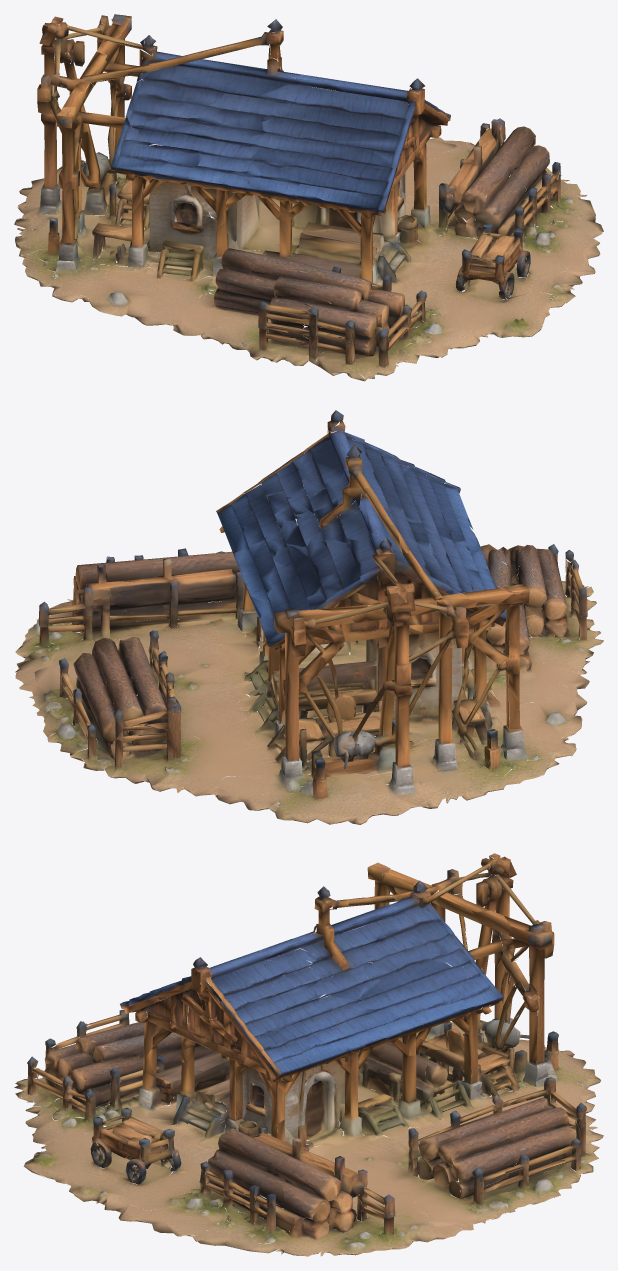
The model's file is aserradero-v.glb.
3 renders of one model, top to bottom at view 1: azimuth 30°, elevation 25°; view 2: azimuth 150°, elevation 25°; view 3: azimuth 270°, elevation 25°, orthographic. The views are drawn at different scales.
Visible parts, largest first — view 1: tripo_node_843c9067-e088-4989-b559-e730d83b4ff4; view 2: tripo_node_843c9067-e088-4989-b559-e730d83b4ff4; view 3: tripo_node_843c9067-e088-4989-b559-e730d83b4ff4.
Part boxes in pixels (x1=…): tripo_node_843c9067-e088-4989-b559-e730d83b4ff4: x1=14, y1=14, x2=603, y2=381; tripo_node_843c9067-e088-4989-b559-e730d83b4ff4: x1=15, y1=410, x2=603, y2=824; tripo_node_843c9067-e088-4989-b559-e730d83b4ff4: x1=14, y1=853, x2=603, y2=1256.
Size of the model in its own units: 0.9748 by 0.428 by 0.9915.
Materials: 1 (1 with a texture image).
